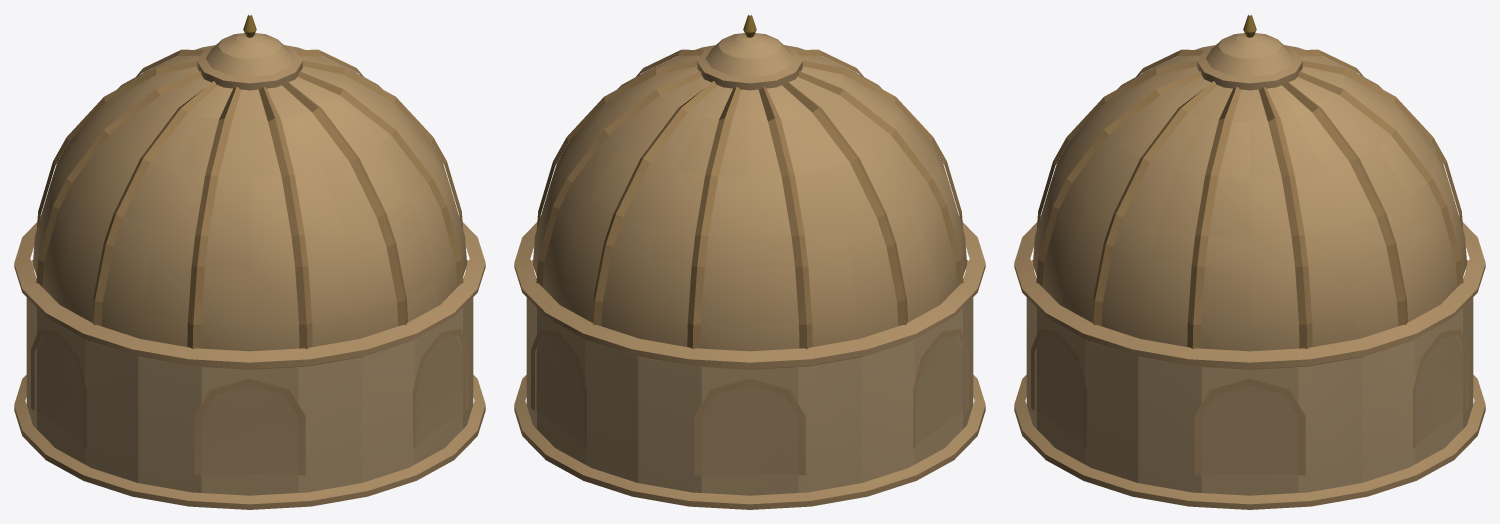
File: dome.closed_12.sandstone.glb
The picture shows the model from 3 angles, left to right: view 1: azimuth 30°, elevation 25°; view 2: azimuth 150°, elevation 25°; view 3: azimuth 270°, elevation 25°; orthographic projection.
Parts seen in each view (by area): view 1: dome_closed_12_sandstone; view 2: dome_closed_12_sandstone; view 3: dome_closed_12_sandstone.
Part boxes in pixels (x1,y1,x2,y2): dome_closed_12_sandstone: [14, 15, 485, 509]; dome_closed_12_sandstone: [514, 15, 985, 509]; dome_closed_12_sandstone: [1014, 15, 1485, 509].
Size of what is drawn, in the model's own units: 7.6 by 7.03 by 7.6.
